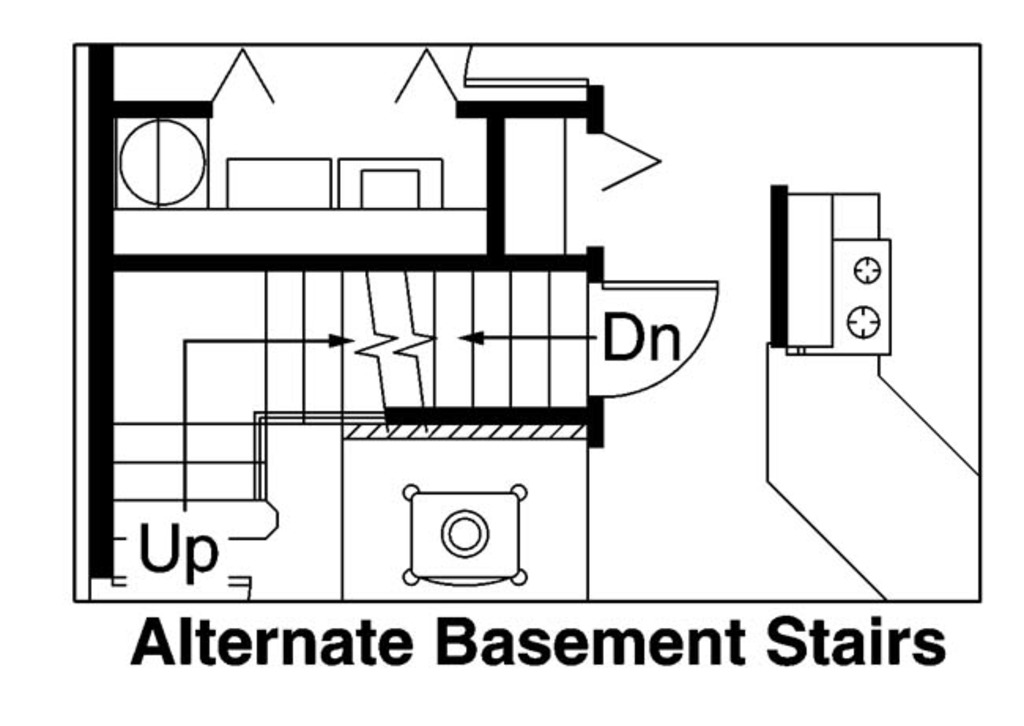door: (590, 266, 731, 420)
stairs: (112, 255, 589, 496)
